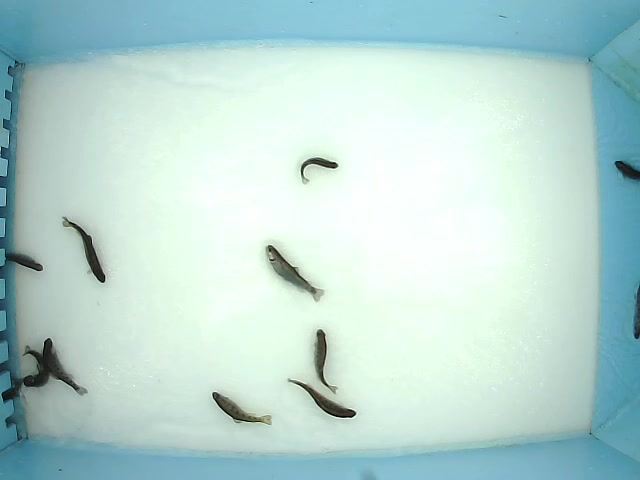fish: (265, 244, 326, 303), (61, 215, 108, 284), (286, 376, 357, 419), (42, 337, 89, 397), (211, 391, 274, 426), (313, 328, 339, 395), (22, 344, 49, 389), (300, 156, 340, 186)
